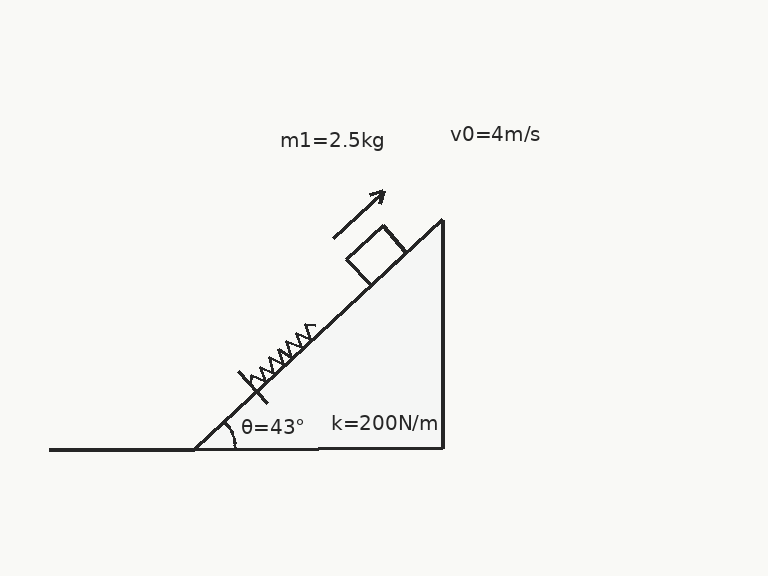block: (344, 224, 408, 287)
ramp: (193, 217, 443, 451)
spring: (248, 322, 317, 387)
